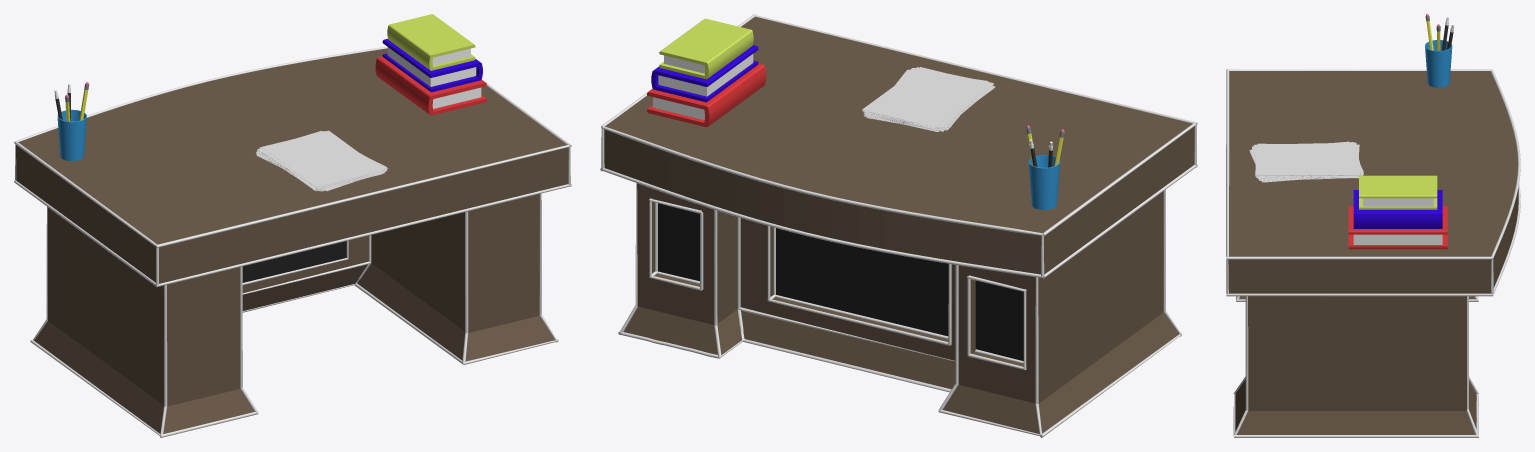
File: 4th-Level Doctor Table With Outline.fbx
3 views of the same model, side by side, from view 1: azimuth 30°, elevation 25°; view 2: azimuth 150°, elevation 25°; view 3: azimuth 270°, elevation 25° (orthographic). The views are drawn at different scales.
Parts seen in each view (by area): view 1: Table, Outline, Stack of Papers, Book 3, Book 1, Book 2, Pen Holder; view 2: Table, Outline, Stack of Papers, Book 3, Book 1, Book 2, Pen Holder; view 3: Table, Outline, Stack of Papers, Book 3, Book 1, Book 2, Pen Holder.
Part boxes in pixels (<box>): Table: <box>16,48,568,433</box>; Outline: <box>14,46,571,437</box>; Stack of Papers: <box>256,130,387,191</box>; Book 3: <box>387,14,475,70</box>; Book 1: <box>375,56,486,115</box>; Book 2: <box>382,38,482,92</box>; Pen Holder: <box>57,109,86,161</box>; Table: <box>604,16,1194,433</box>; Outline: <box>600,14,1197,437</box>; Stack of Papers: <box>862,67,995,131</box>; Book 3: <box>659,18,753,79</box>; Book 1: <box>647,63,766,127</box>; Book 2: <box>651,45,758,102</box>; Pen Holder: <box>1028,155,1059,209</box>; Table: <box>1228,71,1518,434</box>; Outline: <box>1226,69,1520,437</box>; Stack of Papers: <box>1249,141,1363,182</box>; Book 3: <box>1359,175,1437,209</box>; Book 1: <box>1348,206,1447,249</box>; Book 2: <box>1353,190,1442,228</box>; Pen Holder: <box>1425,40,1452,87</box>.
Size of the model in its own units: 442 by 273 by 292.
